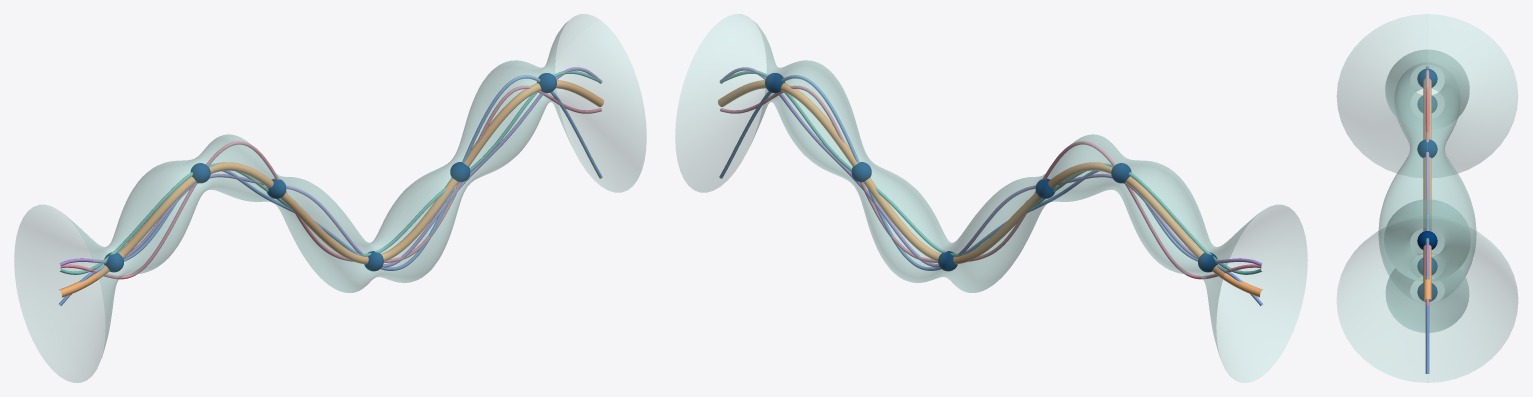
The model's file is gaussian-process-regression-3d.glb.
The picture shows the model from 3 angles, left to right: view 1: azimuth 30°, elevation 25°; view 2: azimuth 150°, elevation 25°; view 3: azimuth 270°, elevation 25°; orthographic projection.
Visible parts, largest first — view 1: uncertainty_2sigma, mean_function, posterior_sample_4, posterior_sample_1, posterior_sample_3, posterior_sample_2; view 2: uncertainty_2sigma, mean_function, posterior_sample_4, posterior_sample_1, posterior_sample_3, posterior_sample_2; view 3: uncertainty_2sigma, mean_function, posterior_sample_3, posterior_sample_1, posterior_sample_4, observation_3, observation_6, observation_2, observation_4, observation_5.
Boxes of the visible parts, <box> form: uncertainty_2sigma: <box>14,14,646,382</box>; mean_function: <box>59,80,603,297</box>; posterior_sample_4: <box>60,85,601,279</box>; posterior_sample_1: <box>59,75,602,305</box>; posterior_sample_3: <box>59,67,602,267</box>; posterior_sample_2: <box>59,70,601,274</box>; uncertainty_2sigma: <box>675,14,1307,382</box>; mean_function: <box>718,80,1262,297</box>; posterior_sample_4: <box>720,85,1261,279</box>; posterior_sample_1: <box>719,75,1262,305</box>; posterior_sample_3: <box>719,67,1262,267</box>; posterior_sample_2: <box>720,70,1262,274</box>; uncertainty_2sigma: <box>1337,14,1517,382</box>; mean_function: <box>1423,78,1431,301</box>; posterior_sample_3: <box>1425,66,1429,279</box>; posterior_sample_1: <box>1425,212,1429,373</box>; posterior_sample_4: <box>1425,69,1429,306</box>; observation_3: <box>1417,139,1437,157</box>; observation_6: <box>1417,231,1437,249</box>; observation_2: <box>1417,68,1437,87</box>; observation_4: <box>1417,283,1437,301</box>; observation_5: <box>1417,258,1437,274</box>.
Size of the model in its own units: 0.322 by 0.1268 by 0.0939.
